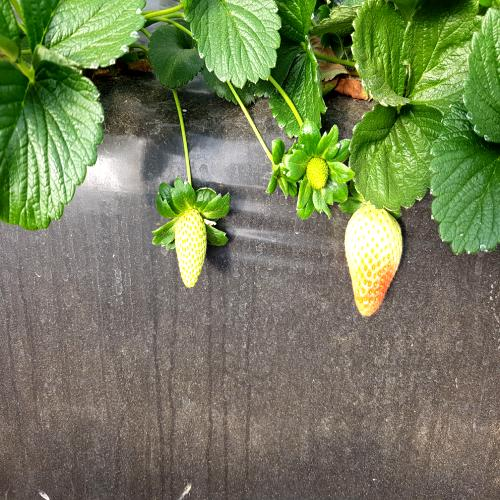partially-ripe: (346, 203, 401, 325)
unripe: (173, 210, 211, 296)
